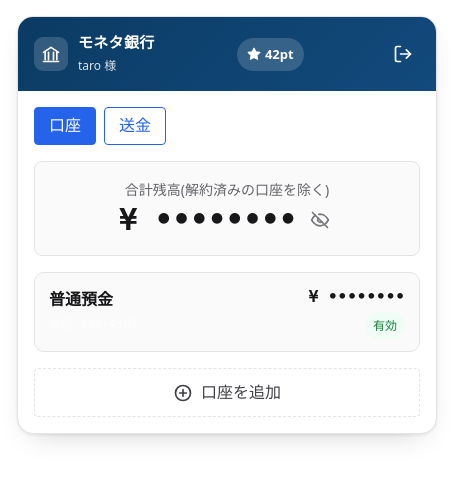
Test case: ポイント履歴はヘッダーバッジから開く、タブとは独立した画面(docs/adr/0026) › 履歴の行から送金の詳細へ飛べる(ADR-0021と同じ相互リンクの考え方)
The width and height of the screenshot is (455, 500).
What coordinates should you click on to do the following:
click the button with aria-label "保有ポイント 42pt"
I would click on:
 (270, 54)
Its box is [237, 38, 304, 71].
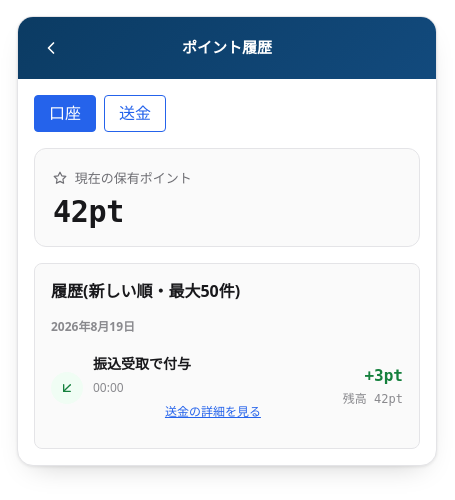
Result: the button "送金の詳細を見る" is shown
What coordinates should you click on to do the following:
click the button "送金の詳細を見る"
I would click on:
 (213, 412)
Its box is [93, 400, 333, 424].
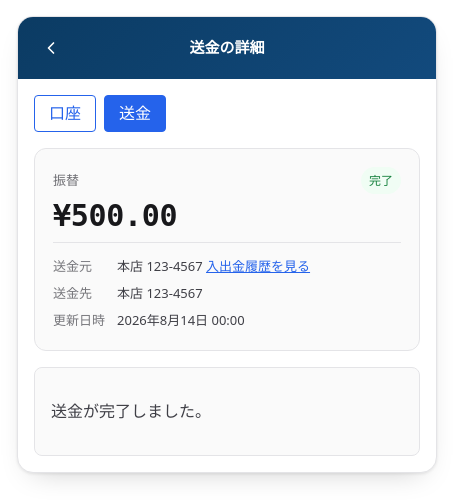
Result: the text "送金の詳細" is shown at [190, 36, 264, 60]
Result: the text "ポイント履歴" is gone
